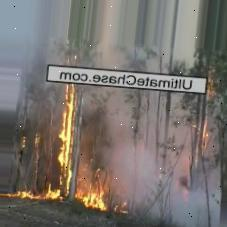fire: (58, 87, 79, 186), (9, 182, 60, 201), (81, 175, 105, 212)
smoke: (104, 95, 227, 227)
